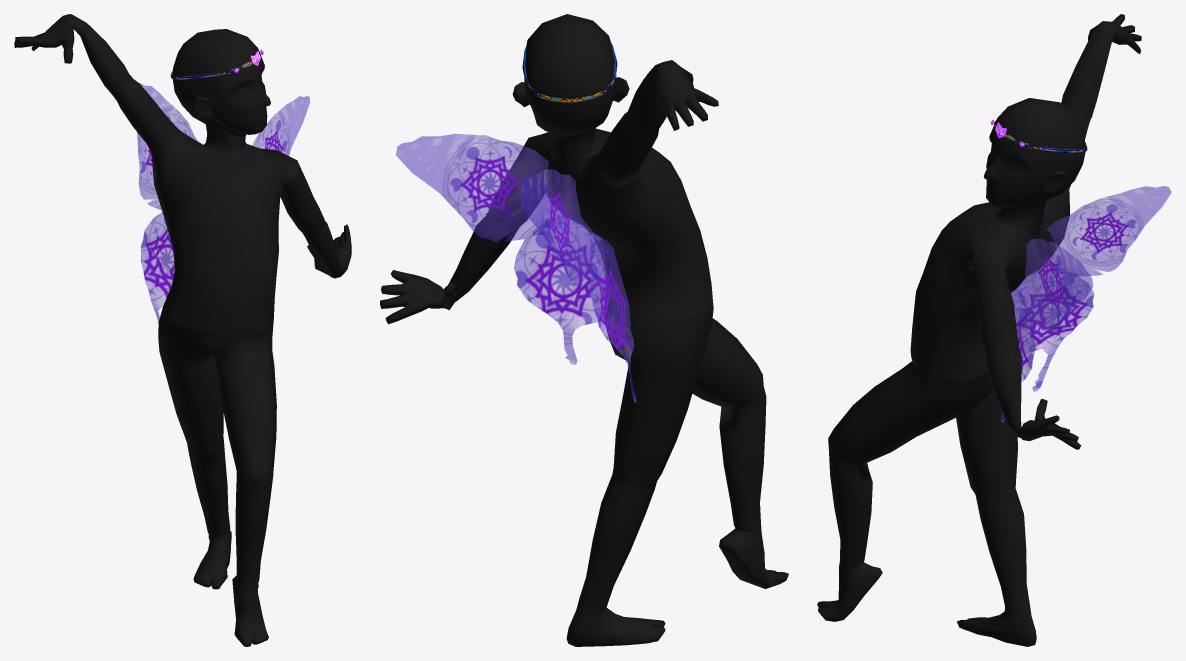
Rendered from understand_wearable.glb.
3 renders of one model, left to right at view 1: azimuth 30°, elevation 25°; view 2: azimuth 150°, elevation 25°; view 3: azimuth 270°, elevation 25°, orthographic. The views are drawn at different scales.
Parts seen in each view (by area): view 1: Understand; view 2: Understand; view 3: Understand.
Part boxes in pixels (x1=…): Understand: x1=14, y1=14, x2=351, y2=646; Understand: x1=380, y1=14, x2=788, y2=646; Understand: x1=817, y1=14, x2=1171, y2=646.
Bounding box in the file's own units: 1.11 × 1.86 × 1.06.
4 materials, 4 textured.
